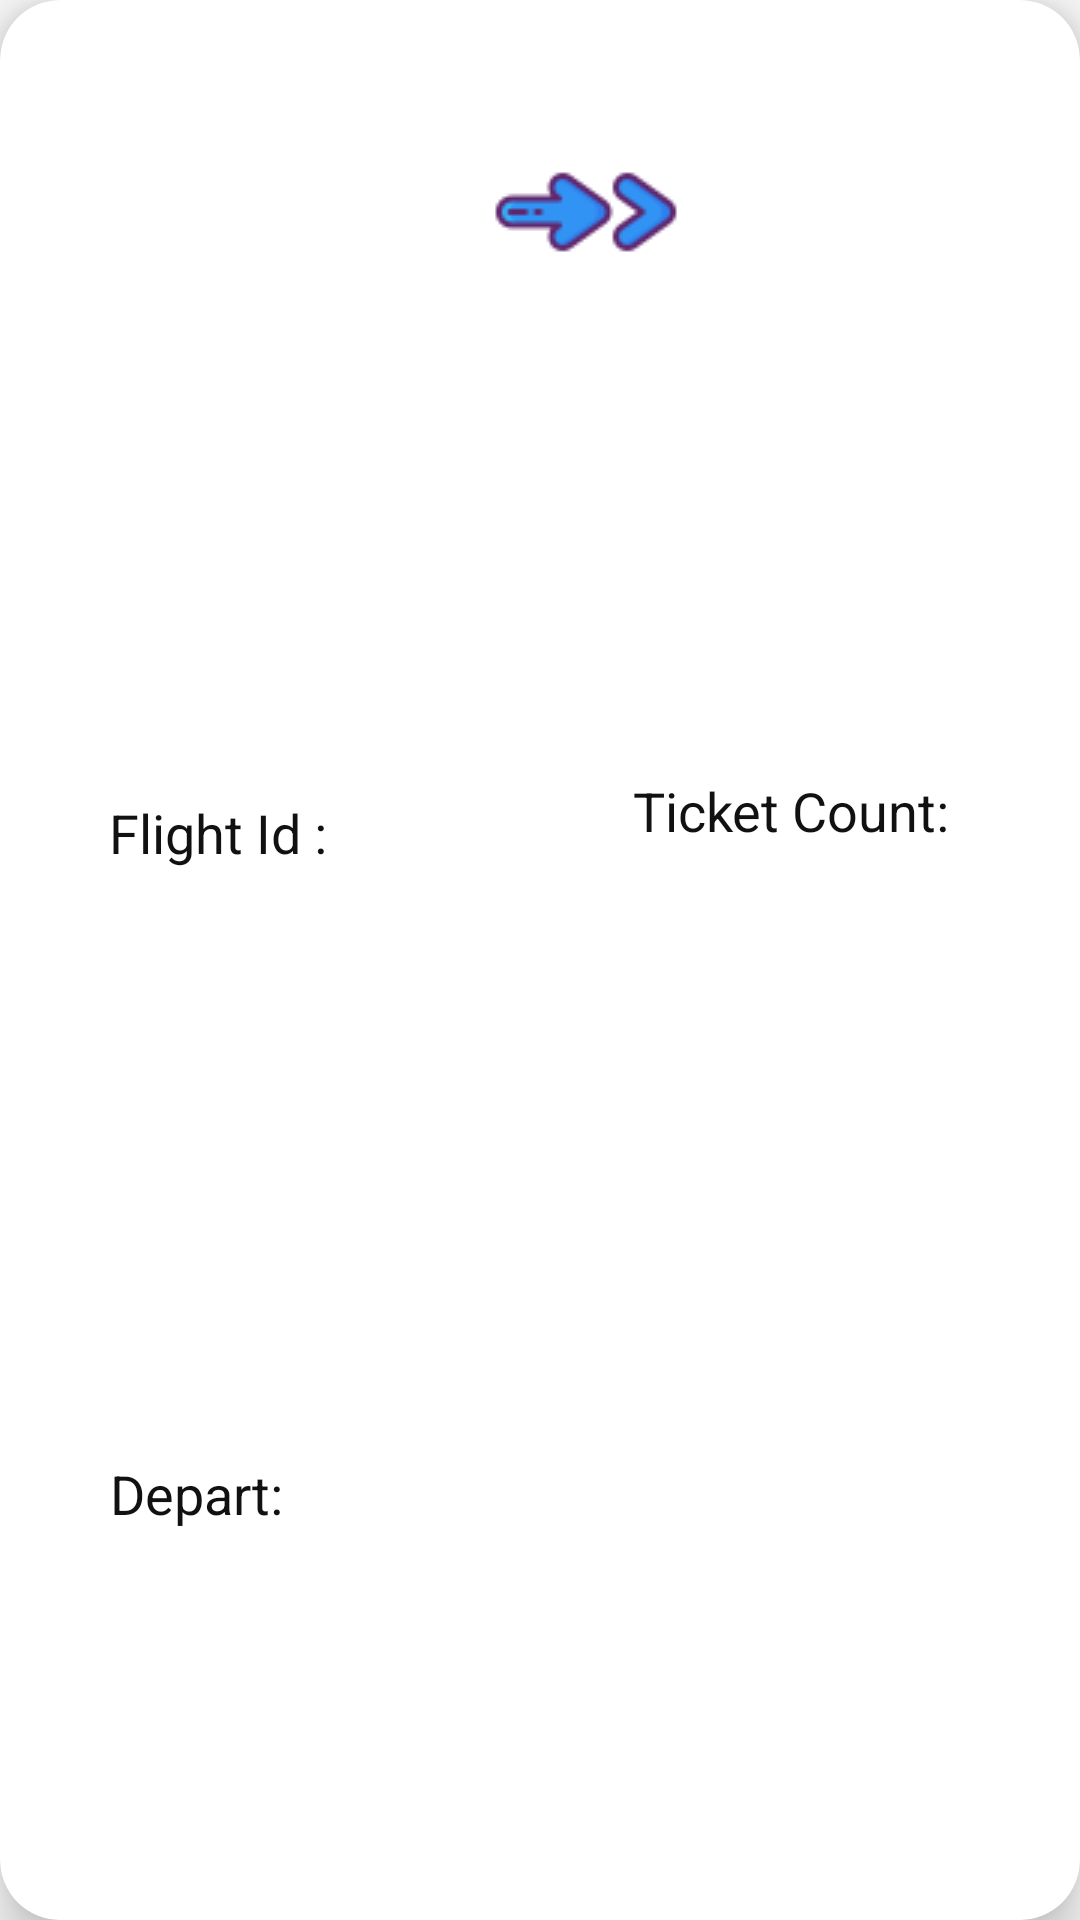

Icon bounding boxes for this 1080×1920 phone screenshot, format (x1=x1, y1=y1, x2=x2, y2=y2):
right arrow: (x1=495, y1=172, x2=677, y2=252)
